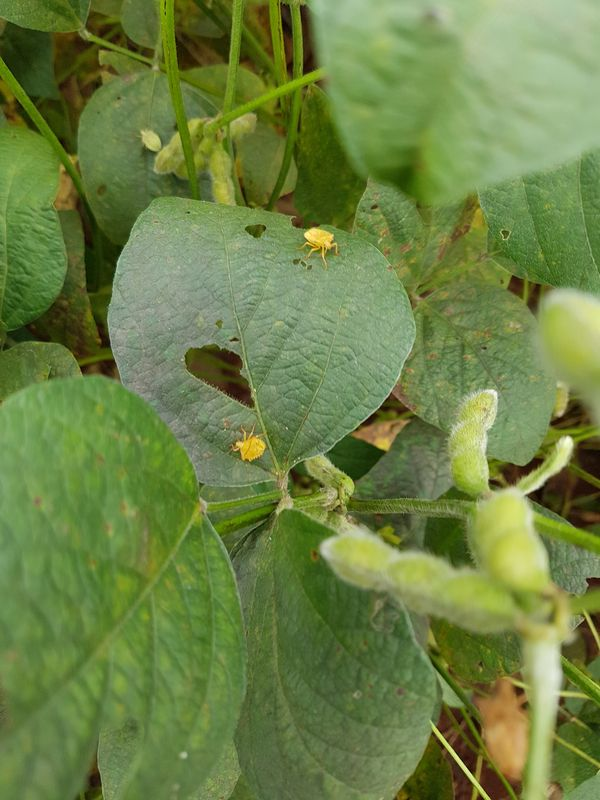Euschistus_heros_adulto: (459, 666, 546, 790)
Euschistus_heros_ninfa: (224, 419, 274, 468), (292, 220, 345, 264)
